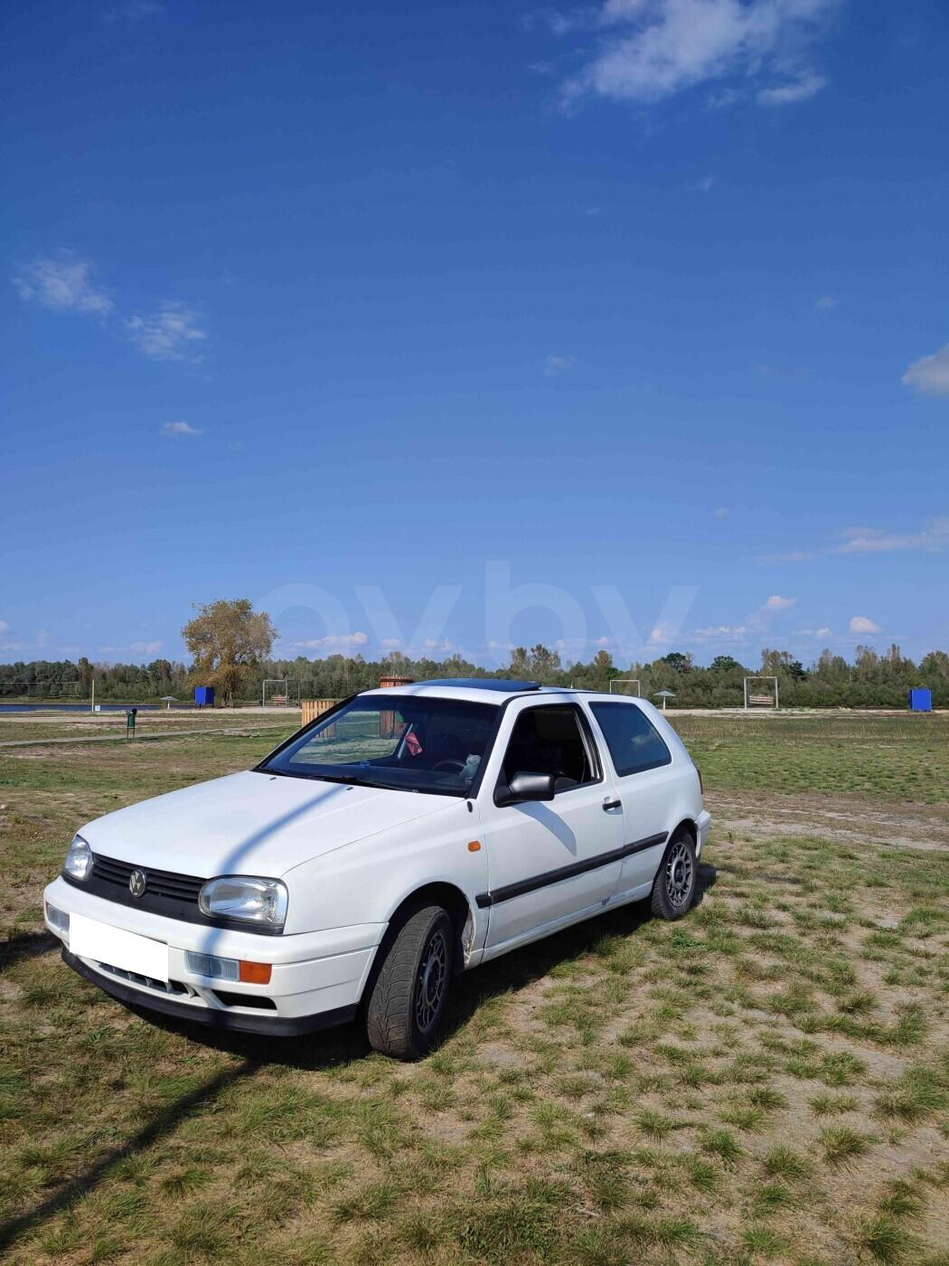Golf_1991-2000: (38, 676, 713, 1056)
